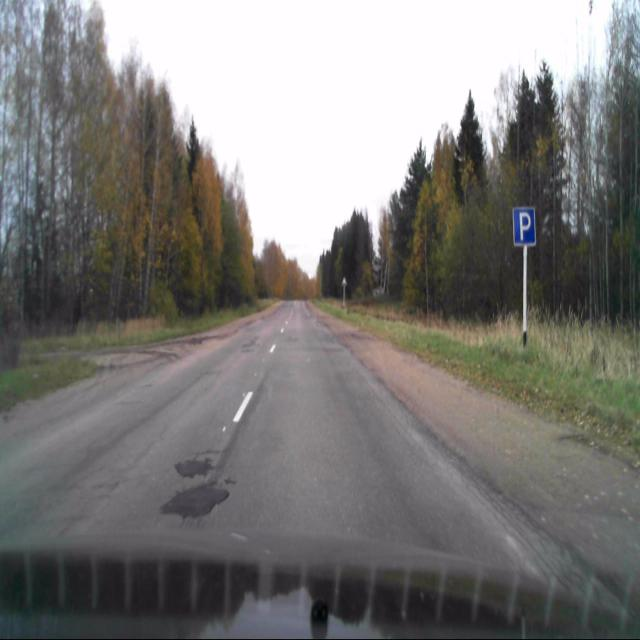road sign: (512, 204, 537, 247)
